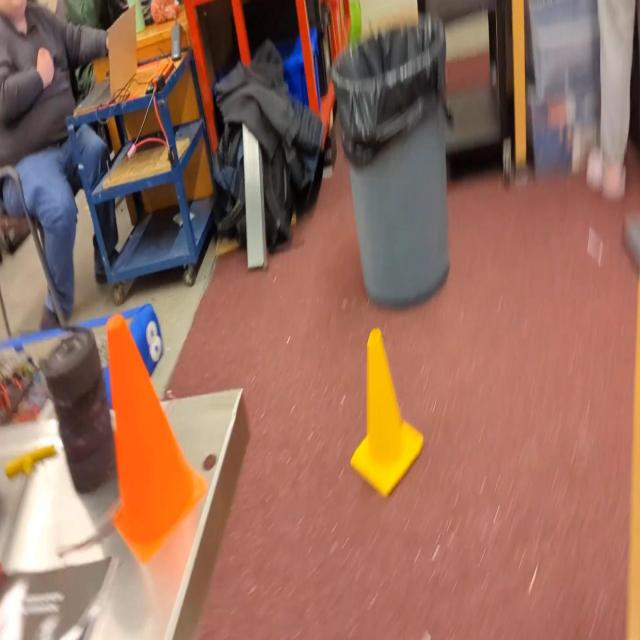frc_cone: (349, 323, 424, 494)
